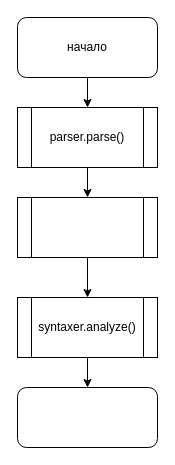
This 175x465 diagram has some shape labels left out. The centre of each missing label's shape, as x and y in pixels:
"lexer.analyze()" belongs at (x=87, y=227).
"конец" belongs at (x=87, y=417).
